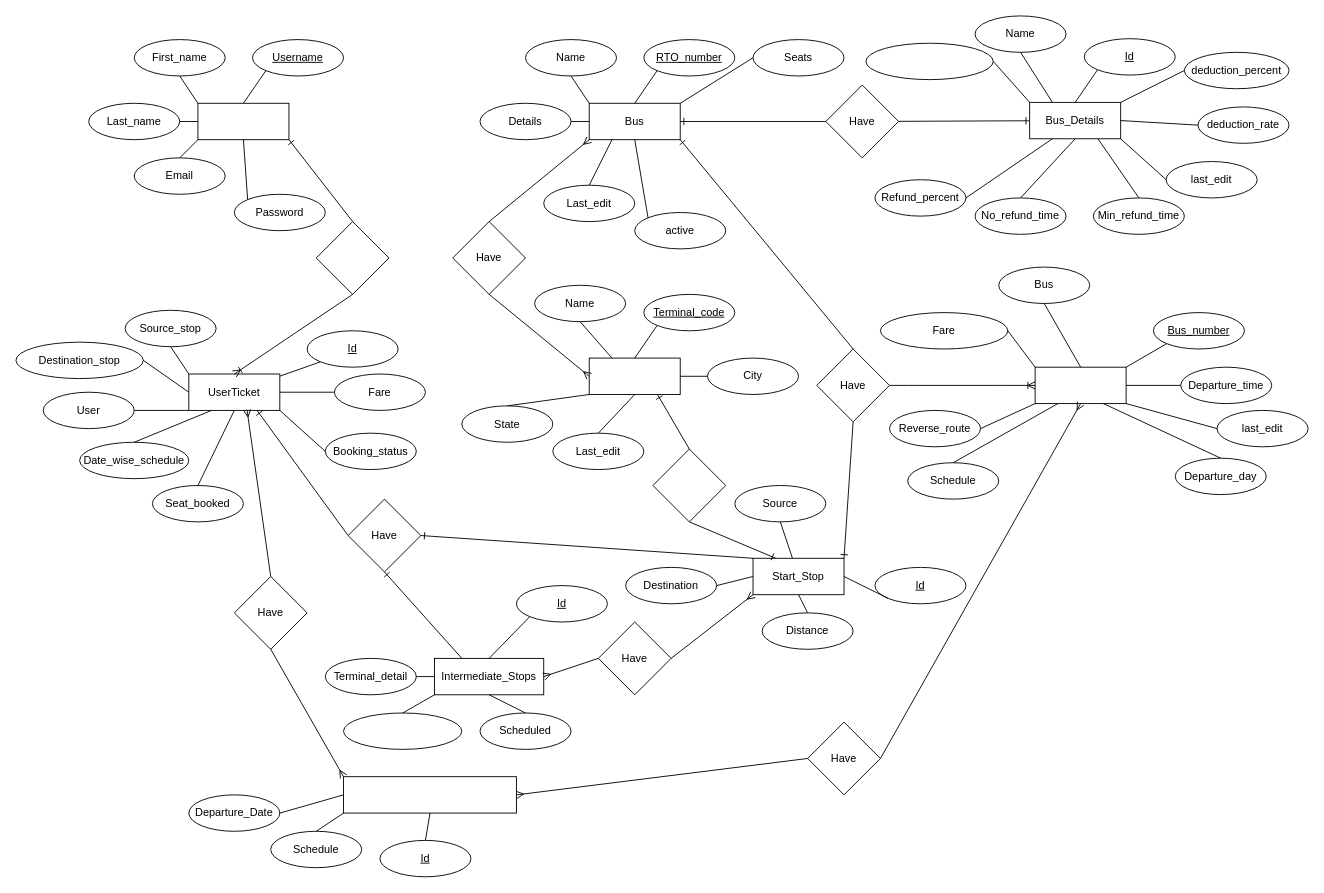
Some shapes in this 1324 by 893 pixel diagram are drawn without their labels. The centre of each missing label's shape, as x and y in pixels:
Accommodation_code: the point at 929,61
Bus_Scheduled: the point at 1080,385
Date_Wise_Bus_Scheduled: the point at 429,794
Distance_from_sorce: the point at 402,730
Have ticket: the point at 352,257
Terminal: the point at 634,375
User-profile: the point at 243,121
Uses: the point at 689,485
